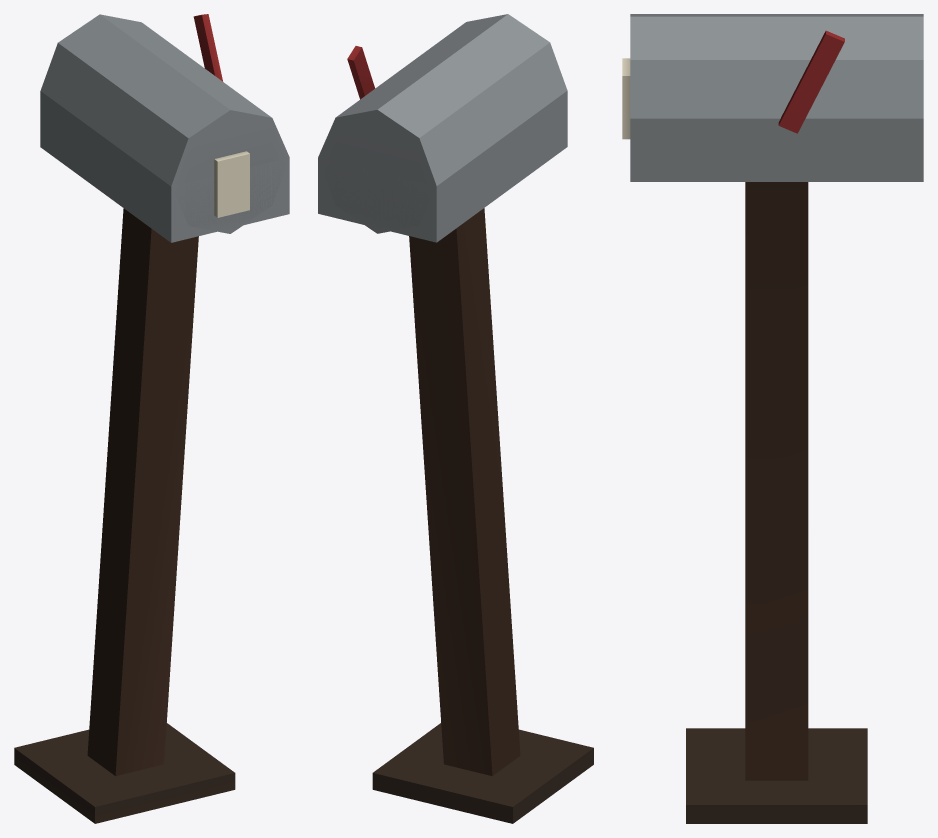
The model's file is curb_mailbox.glb.
The picture shows the model from 3 angles, left to right: view 1: azimuth 30°, elevation 25°; view 2: azimuth 150°, elevation 25°; view 3: azimuth 270°, elevation 25°; orthographic projection. The views are drawn at different scales.
Parts seen in each view (by area): view 1: curb_mailbox; view 2: curb_mailbox; view 3: curb_mailbox.
Boxes of the visible parts, x1,y1,x2,y2 form: curb_mailbox: [14, 14, 289, 823]; curb_mailbox: [318, 14, 593, 823]; curb_mailbox: [622, 14, 923, 823].
Size of the model in its own units: 0.326 by 1.28 by 0.431.
